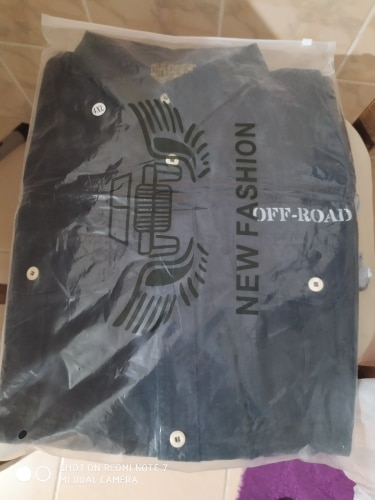shirts: (8, 26, 354, 453)
